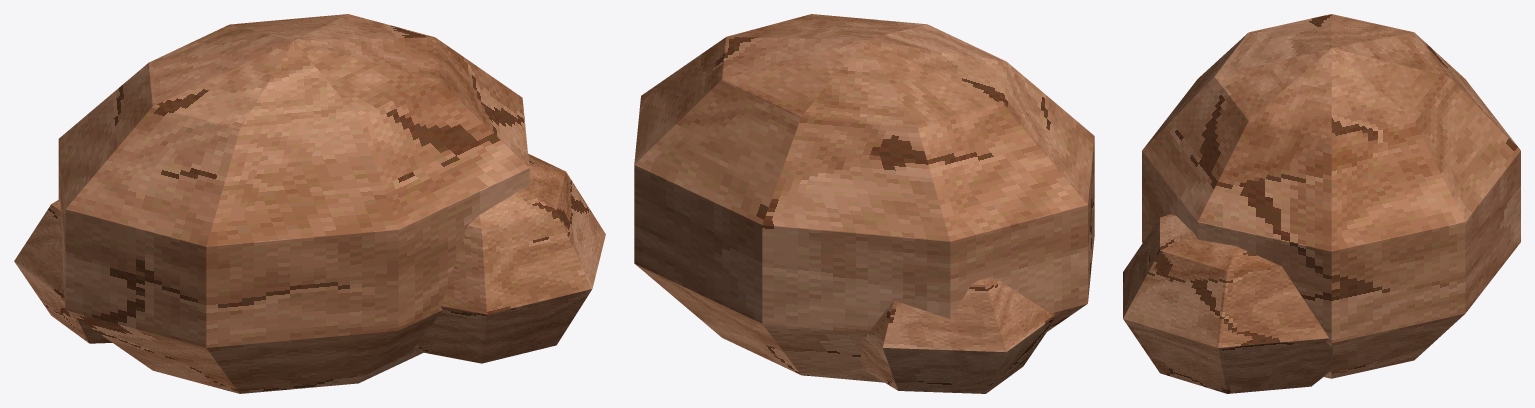
Rendered from argila.glb.
The picture shows the model from 3 angles, left to right: view 1: azimuth 30°, elevation 25°; view 2: azimuth 150°, elevation 25°; view 3: azimuth 270°, elevation 25°; orthographic projection. The views are drawn at different scales.
Visible parts, largest first — view 1: argila; view 2: argila; view 3: argila.
Boxes of the visible parts, <box> form: argila: <box>14,14,605,393</box>; argila: <box>634,14,1094,393</box>; argila: <box>1123,14,1520,393</box>.
Bounding box in the file's own units: 1.04 × 0.6817 × 0.8295.
Materials: 1 (1 with a texture image).
